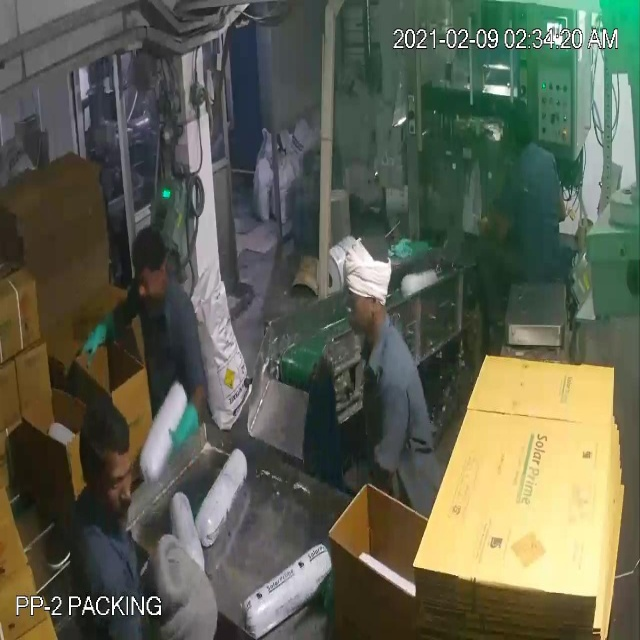Guantes: (51, 294, 135, 378), (142, 397, 218, 467)
